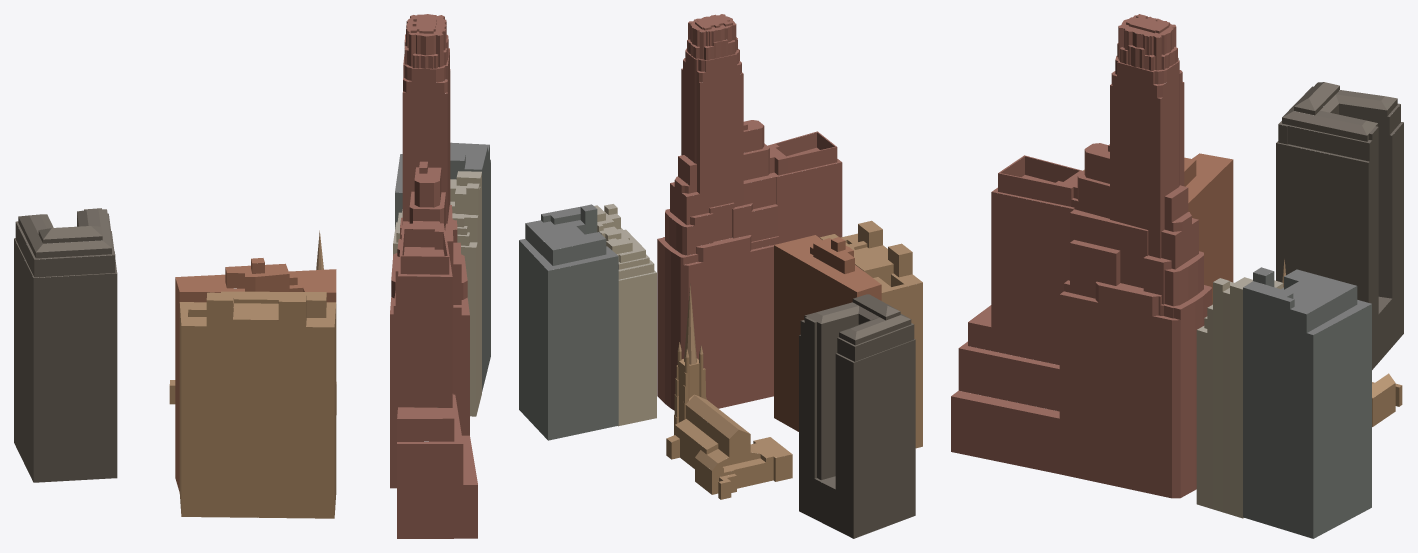
Rendered from tile--7_13.glb.
3 views of the same model, side by side, from view 1: azimuth 30°, elevation 25°; view 2: azimuth 150°, elevation 25°; view 3: azimuth 270°, elevation 25° (orthographic). The views are drawn at different scales.
Parts seen in each view (by area): view 1: wall, roof; view 2: wall, roof; view 3: wall, roof.
Part boxes in pixels (box(x1,y1,x2,y2)): wall: box(14, 16, 490, 538); roof: box(14, 14, 490, 484); wall: box(519, 20, 922, 538); roof: box(519, 14, 922, 489); wall: box(951, 16, 1403, 538); roof: box(951, 14, 1403, 418).
Bounding box in the file's own units: 224 × 205 × 185.
